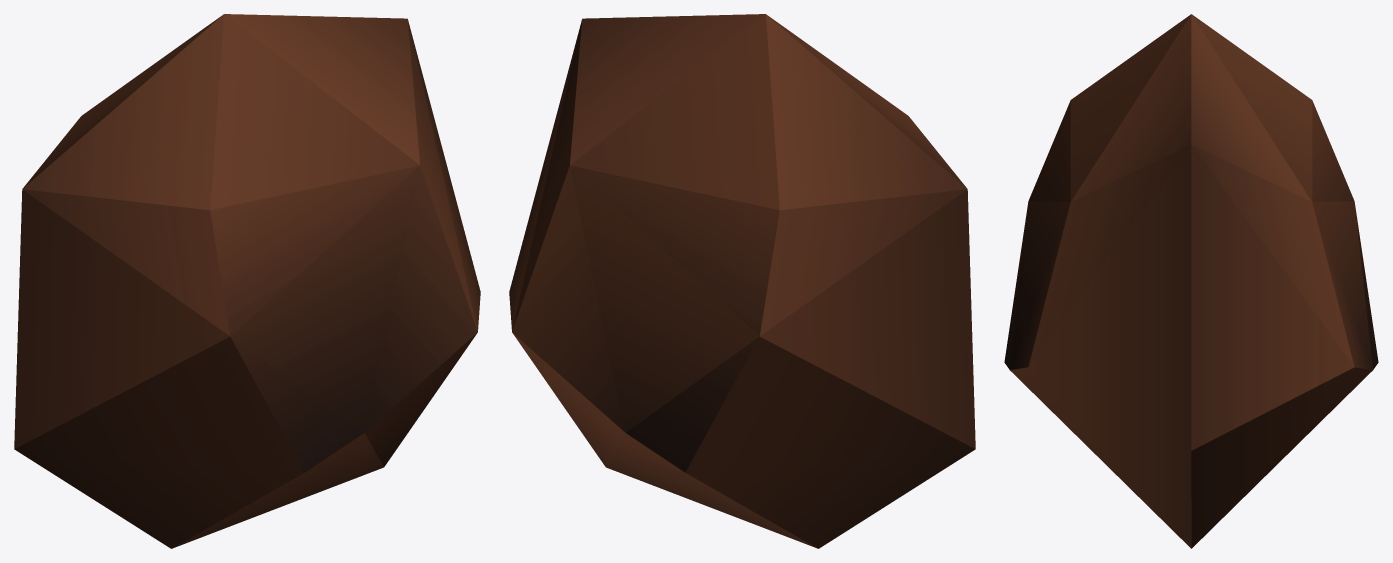
3 views of the same model, side by side, from view 1: azimuth 30°, elevation 25°; view 2: azimuth 150°, elevation 25°; view 3: azimuth 270°, elevation 25° (orthographic). The views are drawn at different scales.
Visible parts, largest first — view 1: OB_001; view 2: OB_001; view 3: OB_001.
Part boxes in pixels (x1,y1,x2,y2): OB_001: [14, 14, 480, 548]; OB_001: [509, 14, 975, 548]; OB_001: [1004, 14, 1378, 548].
Size of the model in its own units: 174 by 186 by 129.
1 material, 1 textured.
